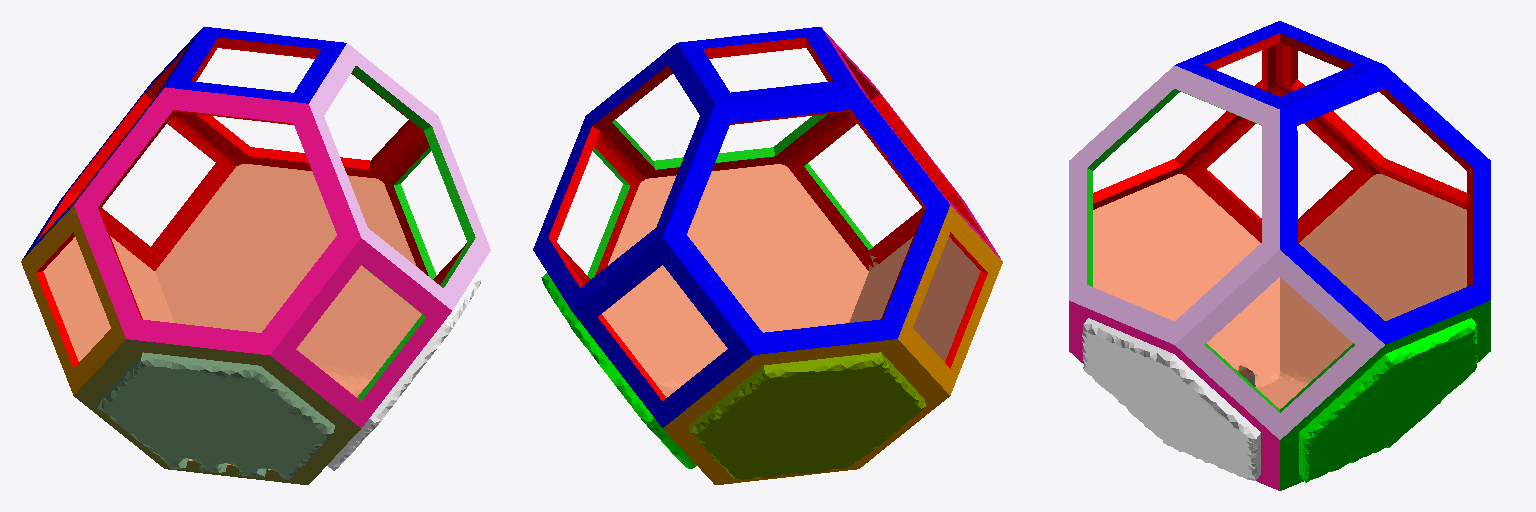
File: model_36_segmented_new.obj
The picture shows the model from 3 angles: view 1: azimuth 30°, elevation 25°; view 2: azimuth 150°, elevation 25°; view 3: azimuth 270°, elevation 25°; orthographic projection.
Bounding box in the file's own units: 100 × 100 × 100.